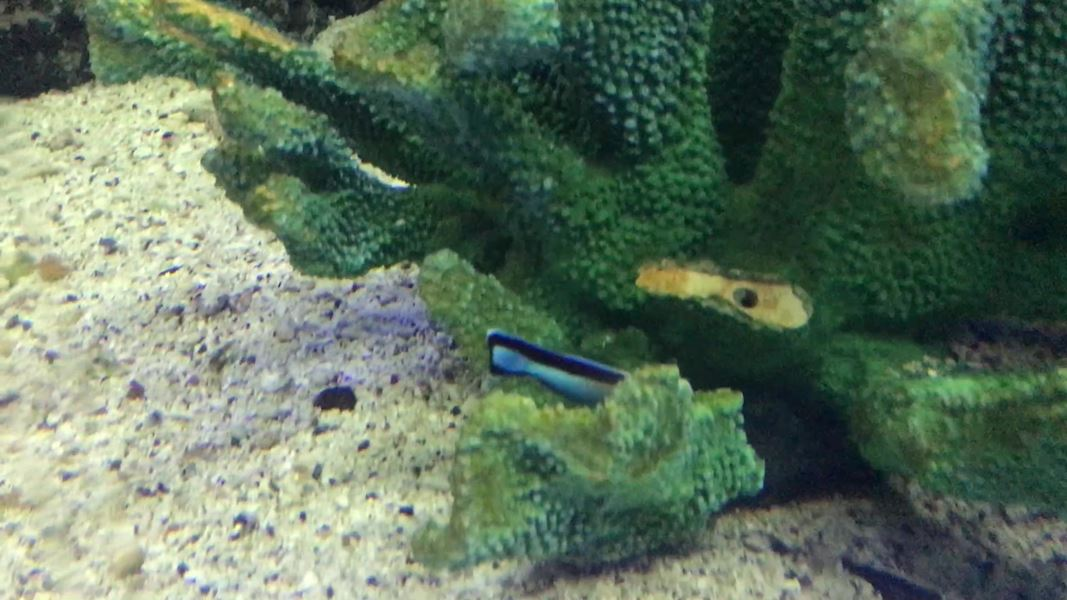Bluesteak cleaner wrasse: (474, 312, 644, 415)
